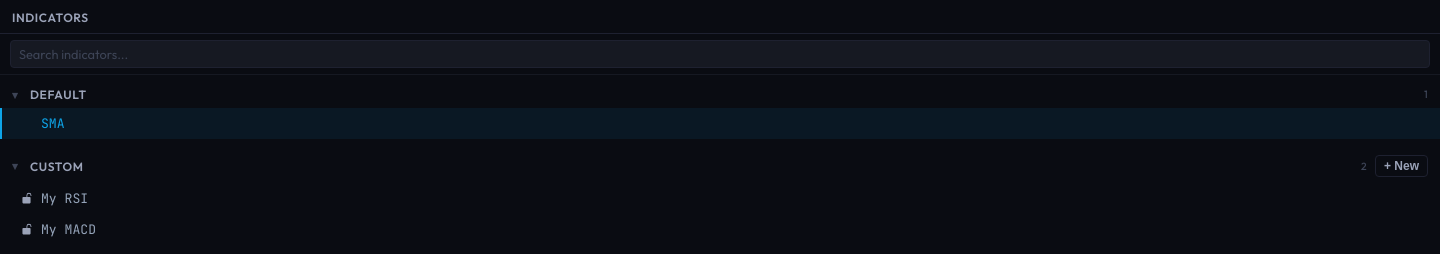
Test case: <IndicatorsList> › clicking the collapsed DEFAULT header re-expands it
What coordinates should you click on to do the following:
click the button with test id "category-default"
I would click on:
 (58, 94)
Its box is [12,87,1428,102].
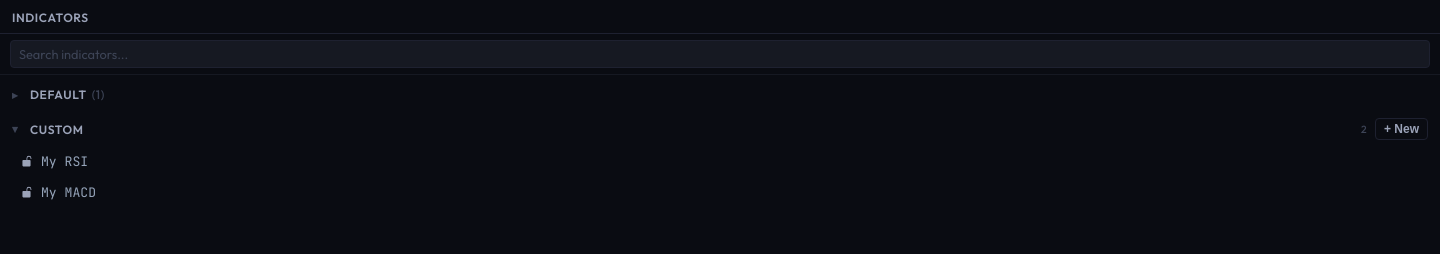
What coordinates should you click on to do the following:
click the button with test id "category-default"
I would click on:
 (58, 94)
Its box is [12,87,105,102].
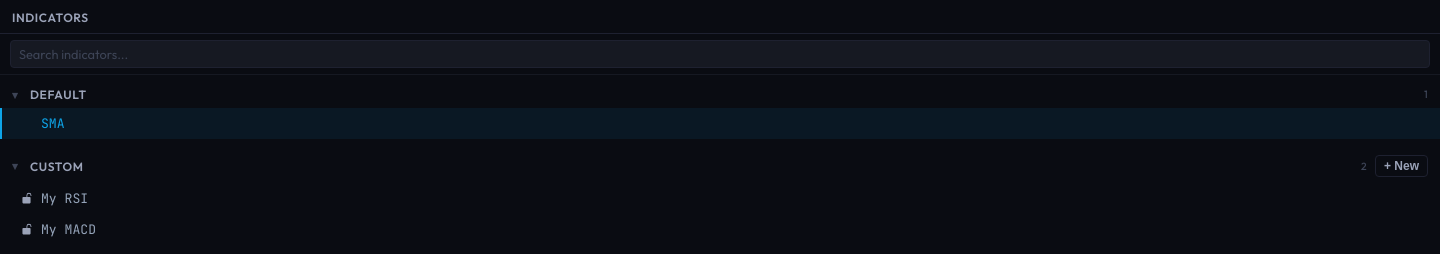
Expected: the text "SMA" is shown, [41,115,65,132]
